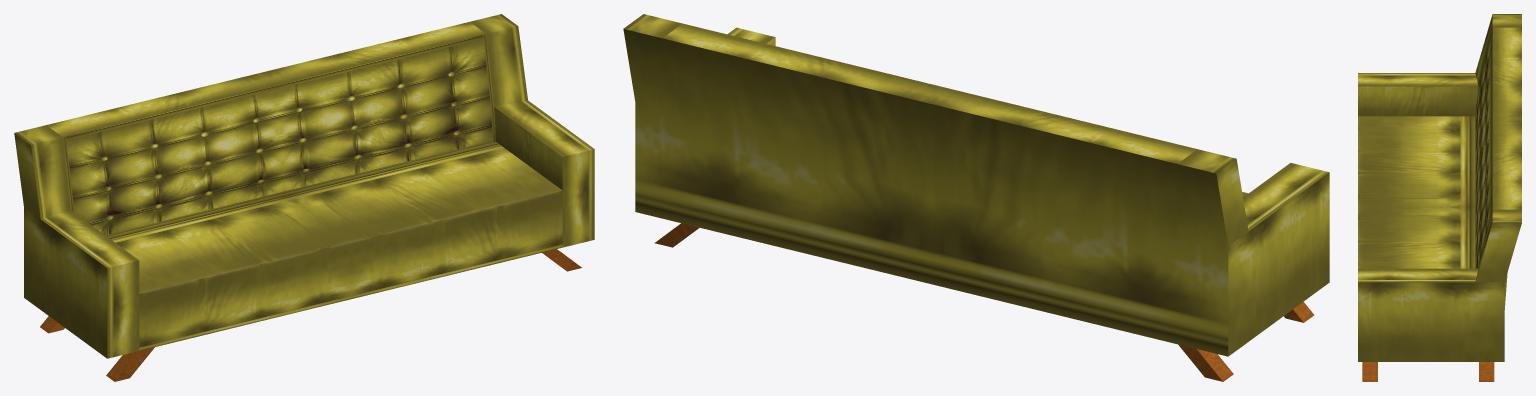
The model's file is sofa.fbx.
3 views of the same model, side by side, from view 1: azimuth 30°, elevation 25°; view 2: azimuth 150°, elevation 25°; view 3: azimuth 270°, elevation 25° (orthographic). The views are drawn at different scales.
Parts seen in each view (by area): view 1: sofa; view 2: sofa; view 3: sofa.
Part boxes in pixels (x1,y1,x2,y2): sofa: [14, 14, 594, 381]; sofa: [623, 14, 1329, 381]; sofa: [1358, 14, 1521, 381].
Size of the model in its own units: 304 by 110 by 101.
Materials: 1 (1 with a texture image).
